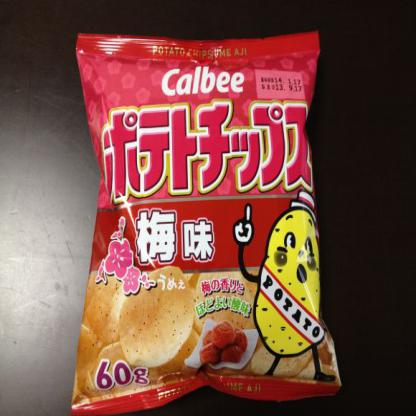potatochip: (62, 24, 344, 413)
